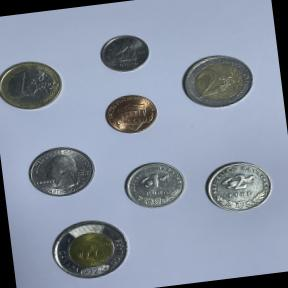1 Euro: (0, 55, 70, 116)
2 Euro: (173, 47, 262, 116)
Canda-10cent-: (96, 29, 156, 78)
Canda-2Dollar-: (42, 212, 139, 288)
Croatia-2Kune-: (198, 153, 279, 220)
US-1cent-: (98, 88, 164, 140)
US-25cent-: (19, 138, 103, 206)
